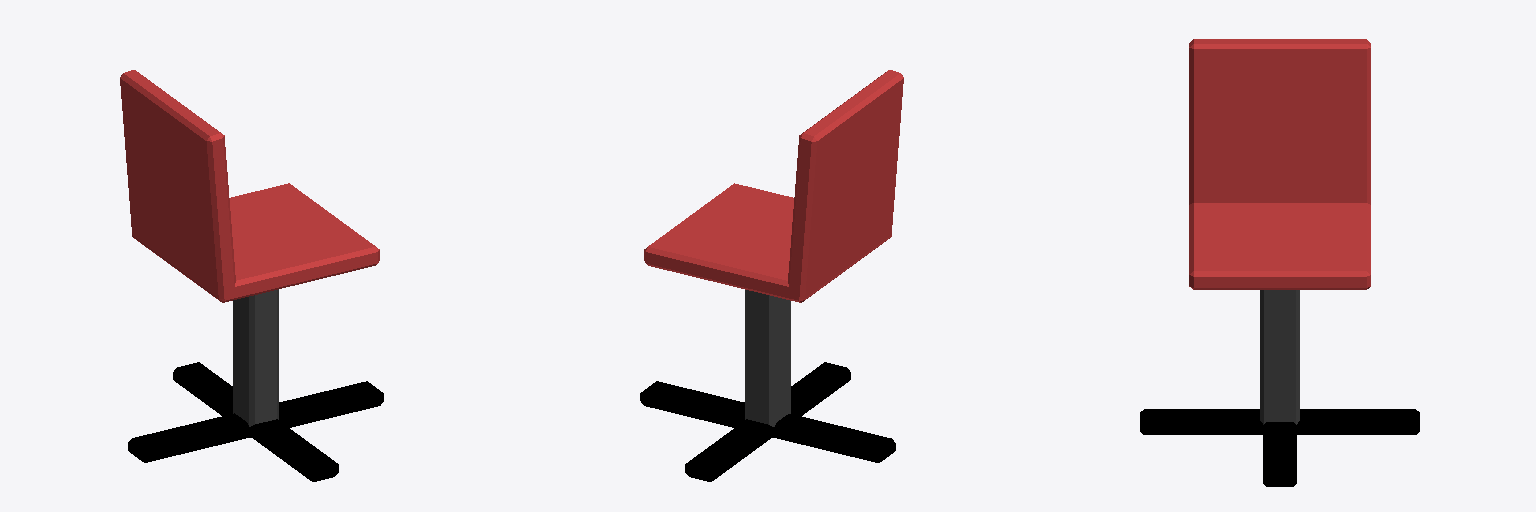
File: chair.obj
The picture shows the model from 3 angles: view 1: azimuth 30°, elevation 25°; view 2: azimuth 150°, elevation 25°; view 3: azimuth 270°, elevation 25°; orthographic projection.
Parts seen in each view (by area): view 1: Cube.4, Cube.3, Cube.1, Cube.2, Cube; view 2: Cube.4, Cube.3, Cube.1, Cube.2, Cube; view 3: Cube.4, Cube.3, Cube, Cube.2, Cube.1.
Boxes of the visible parts, <box> form: Cube.4: <box>120,70,235,298</box>; Cube.3: <box>132,183,379,302</box>; Cube.1: <box>128,381,383,462</box>; Cube.2: <box>233,289,278,426</box>; Cube: <box>173,362,338,481</box>; Cube.4: <box>788,70,903,298</box>; Cube.3: <box>644,183,891,302</box>; Cube.1: <box>640,381,895,462</box>; Cube.2: <box>745,290,790,426</box>; Cube: <box>685,362,850,481</box>; Cube.4: <box>1189,39,1370,204</box>; Cube.3: <box>1189,203,1370,289</box>; Cube: <box>1140,409,1419,434</box>; Cube.2: <box>1260,290,1299,424</box>; Cube.1: <box>1263,422,1296,486</box>.
Size of the model in its own units: 200 by 274 by 200.